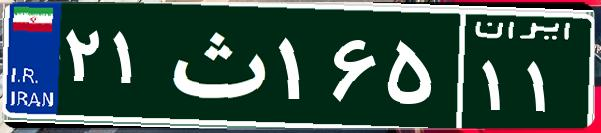1: (273, 28, 330, 110), (475, 38, 525, 113), (110, 28, 158, 105), (525, 38, 570, 115)
2: (57, 26, 110, 107)
5: (385, 28, 445, 110)
6: (330, 28, 385, 110)
ث: (158, 15, 273, 115)
